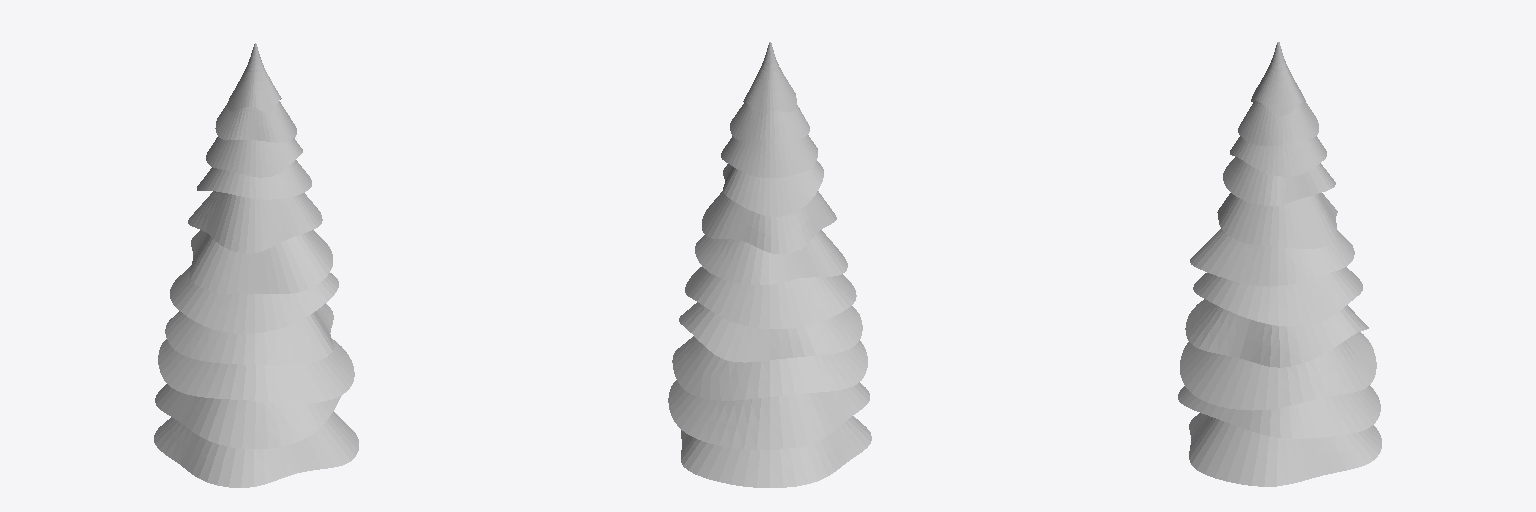
The model's file is PineTree.obj.
3 views of the same model, side by side, from view 1: azimuth 30°, elevation 25°; view 2: azimuth 150°, elevation 25°; view 3: azimuth 270°, elevation 25° (orthographic).
Visible parts, largest first — view 1: 10447_Pine_Tree_v1_SG; view 2: 10447_Pine_Tree_v1_SG; view 3: 10447_Pine_Tree_v1_SG.
Boxes of the visible parts, x1,y1,x2,y2 form: 10447_Pine_Tree_v1_SG: [154, 43, 358, 487]; 10447_Pine_Tree_v1_SG: [668, 42, 871, 487]; 10447_Pine_Tree_v1_SG: [1178, 42, 1381, 486].
Size of the model in its own units: 1.69 by 3.92 by 1.71.